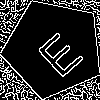E: (28, 23, 85, 80)
